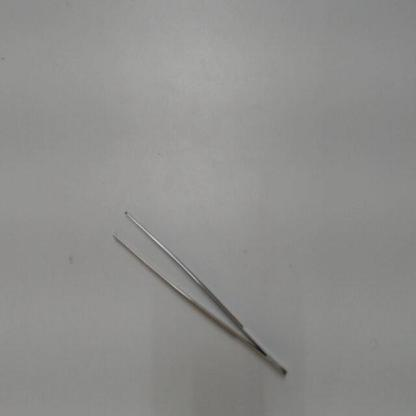Gillies Toothed Dissector: (113, 196, 295, 391)
